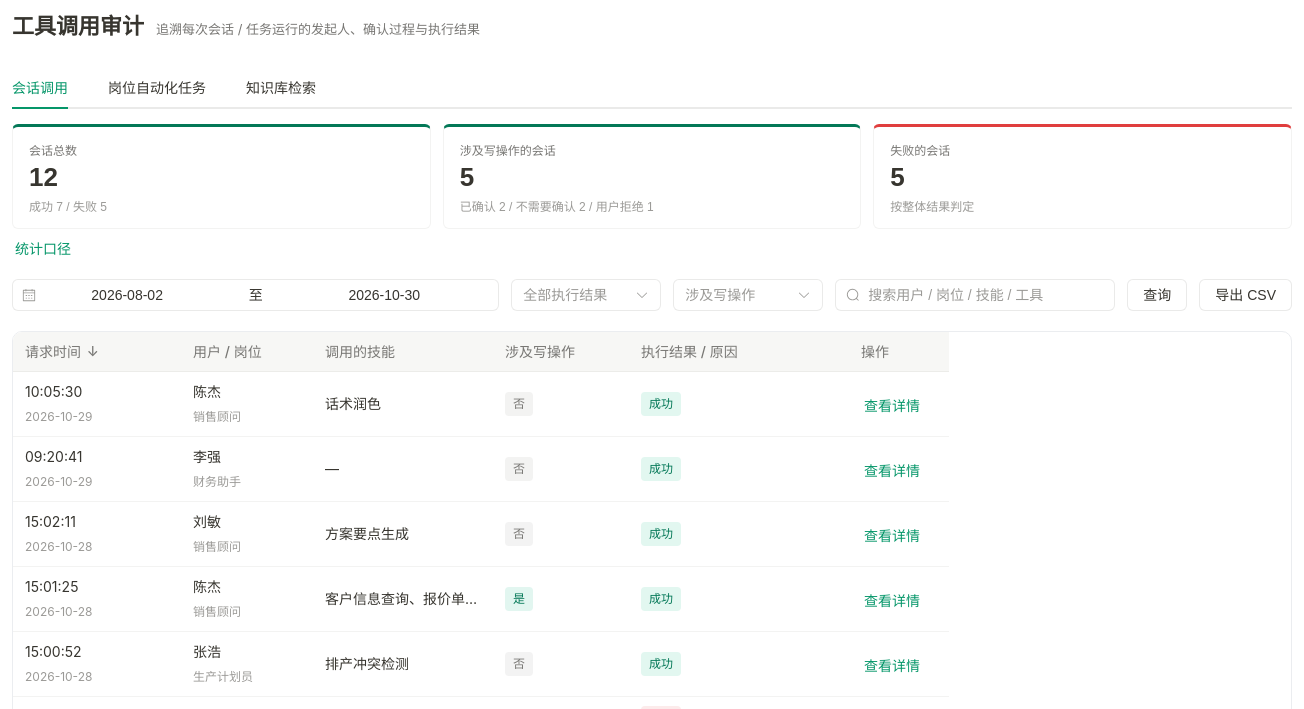
Scenario: 岗位自动化任务页签（PRD §八） › 点「执行失败」卡片 → 只剩失败的运行记录，原「执行前拦截」的运行（不在工具白名单）也并在其中，原因展示具体工具 + 原因（不是"未授权"）
This screenshot has width=1304, height=709.
Click the tab "岗位自动化任务": [157, 88] box x1=108 y1=79 x2=206 y2=96
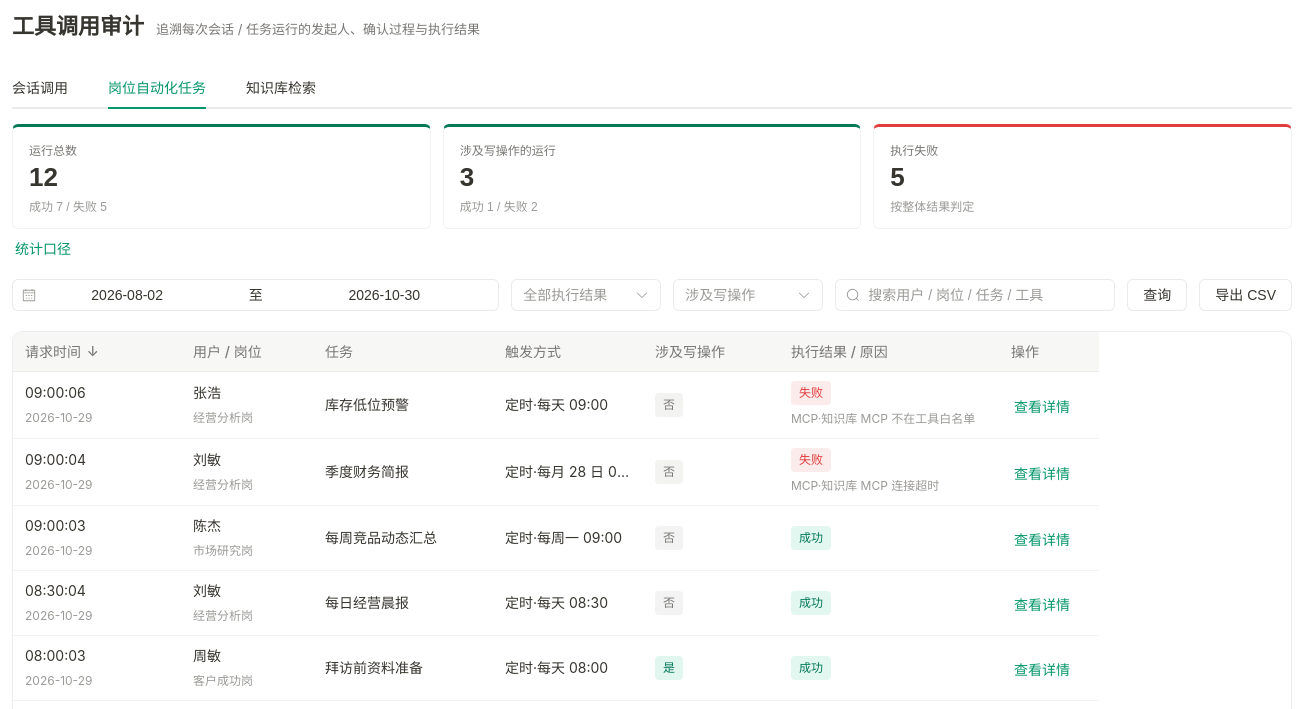
Click the button with class "metric-card" showing "执行失败 5 按整体结果判定": [914, 151] box x1=873 y1=124 x2=1292 y2=229
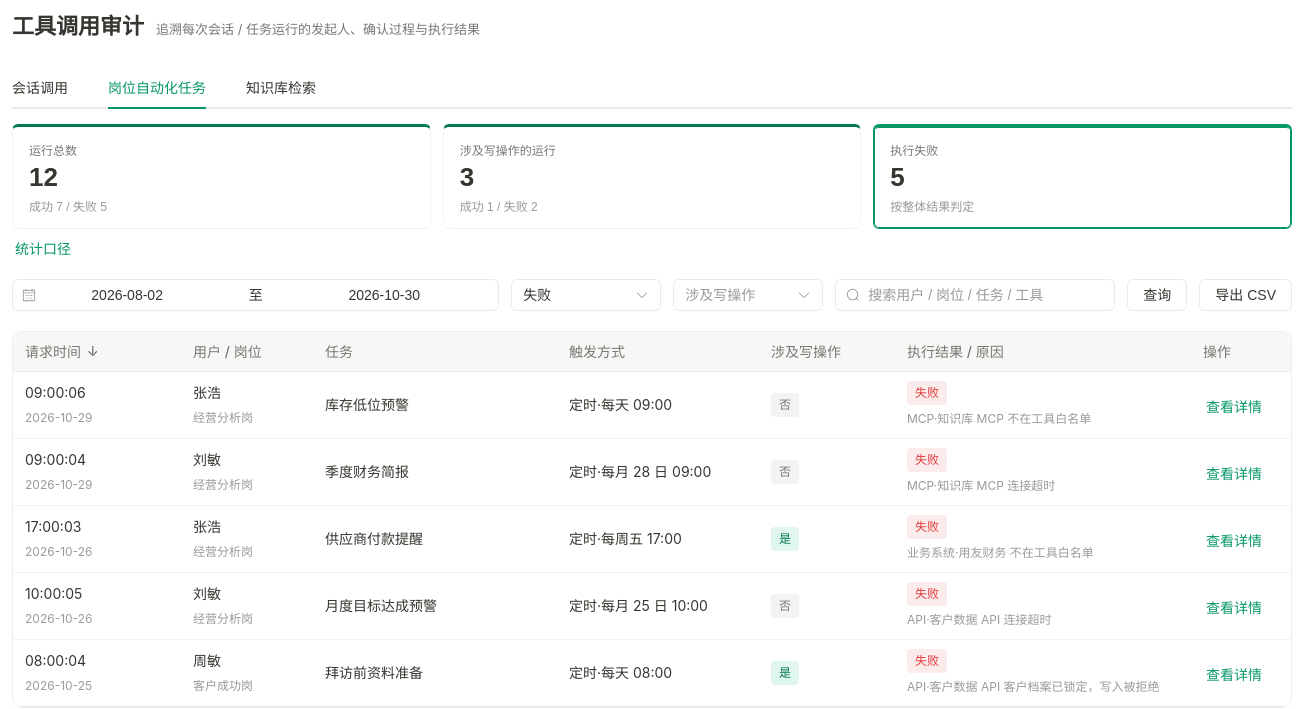
expect the row that starts with "经营分析岗" shows "失败": met, box x1=915 y1=385 x2=939 y2=400
expect the row that starts with "客户成功岗" shows "失败": met, box x1=915 y1=653 x2=939 y2=668
